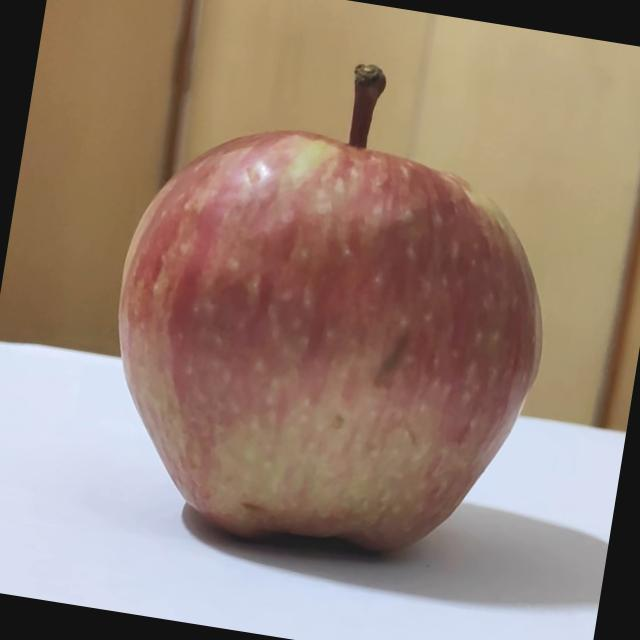apple: (85, 22, 594, 577)
